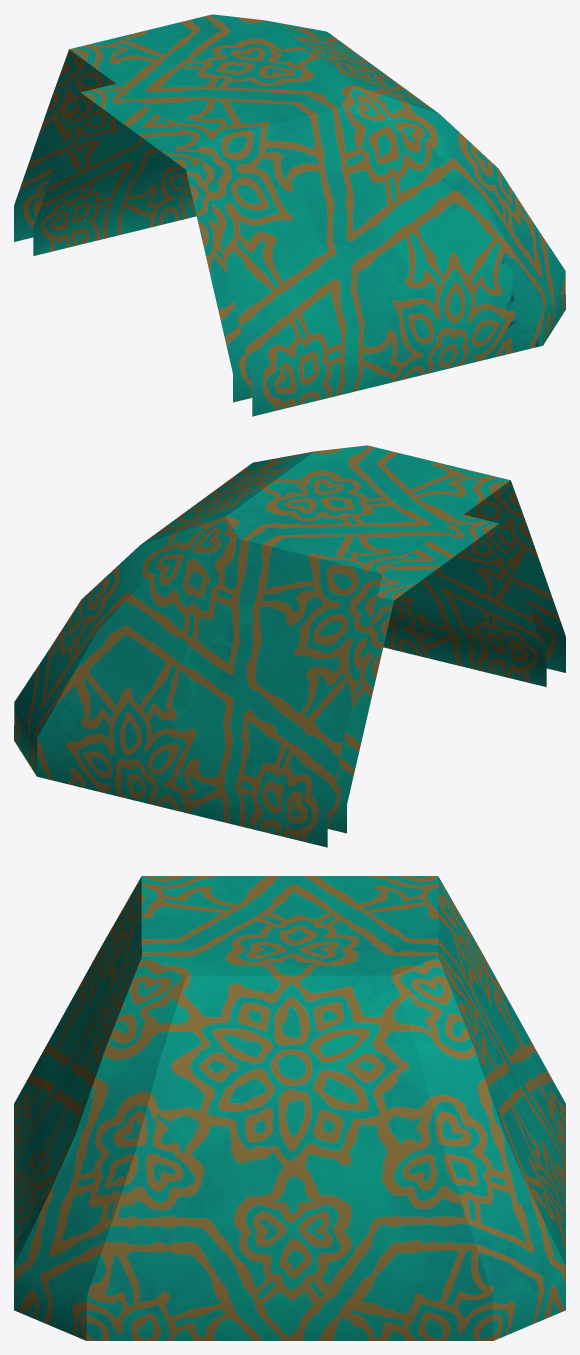
The model's file is sm_dome.fbx.
The picture shows the model from 3 angles, top to bottom: view 1: azimuth 30°, elevation 25°; view 2: azimuth 150°, elevation 25°; view 3: azimuth 270°, elevation 25°; orthographic projection. The views are drawn at different scales.
Visible parts, largest first — view 1: Roof_Dome; view 2: Roof_Dome; view 3: Roof_Dome.
Boxes of the visible parts, x1=… form: Roof_Dome: x1=14, y1=14, x2=565, y2=416; Roof_Dome: x1=14, y1=445, x2=565, y2=847; Roof_Dome: x1=14, y1=876, x2=565, y2=1340.
Bounding box in the file's own units: 4.98 × 3.22 × 5.96.
